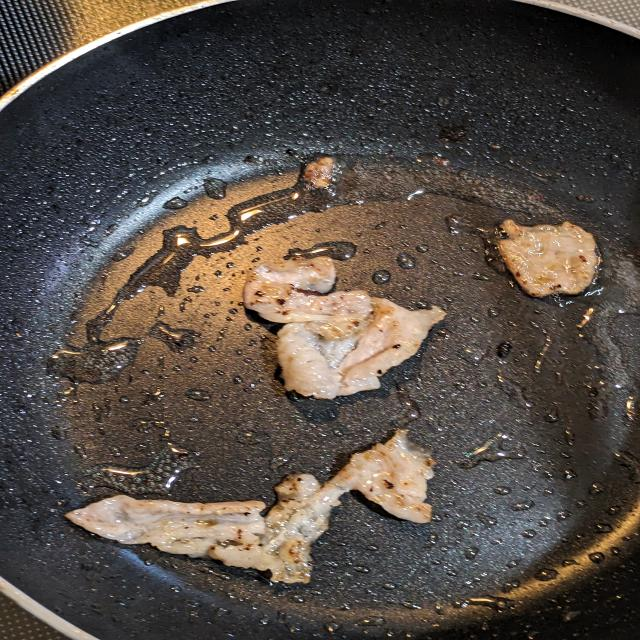OK cooked pork,: (64, 423, 441, 591), (239, 252, 457, 409), (489, 214, 604, 303)
